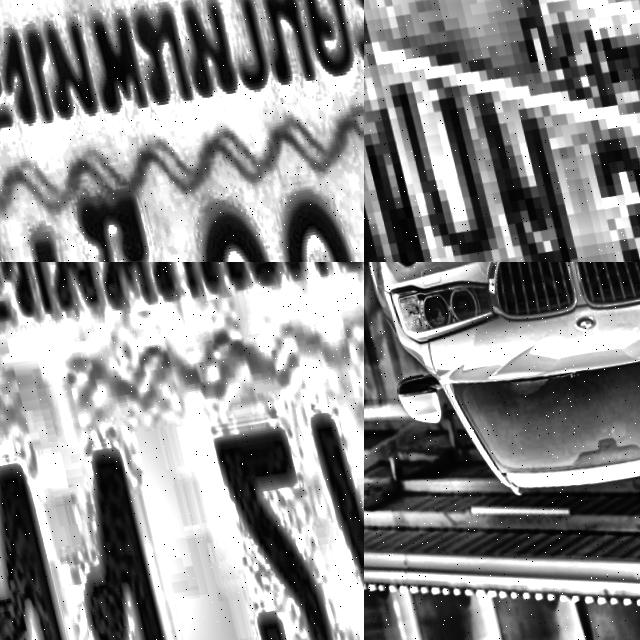license-plate: (0, 262, 364, 640), (0, 0, 364, 262), (364, 0, 640, 262)
